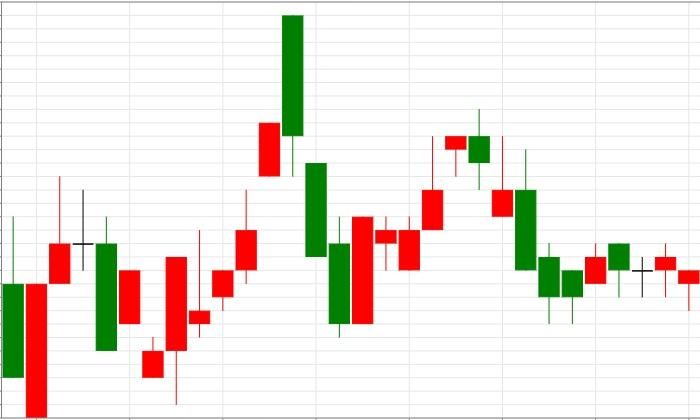evening_star_fall: (26, 175, 117, 418)
three_black_crows_fall: (142, 14, 351, 405)
